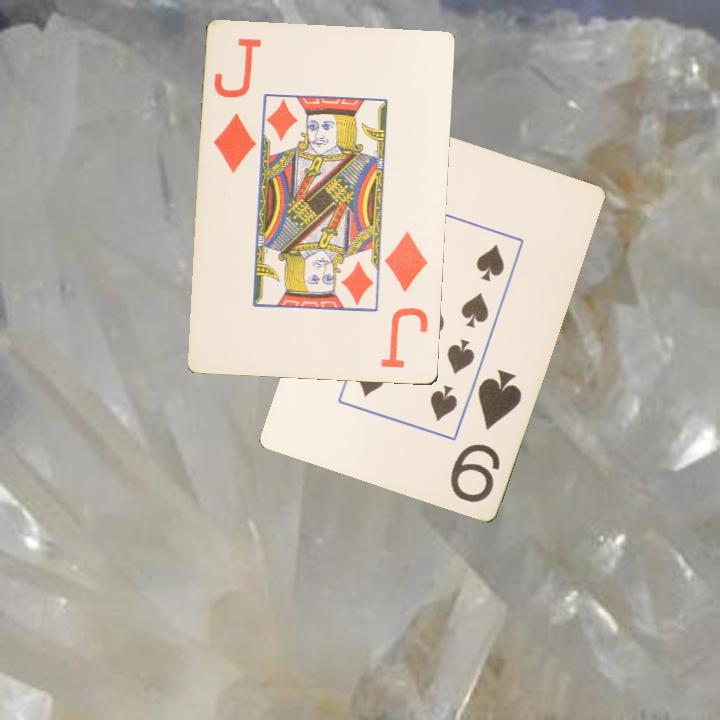9s: (446, 365, 525, 505)
Jd: (377, 228, 432, 372), (210, 35, 265, 177)
